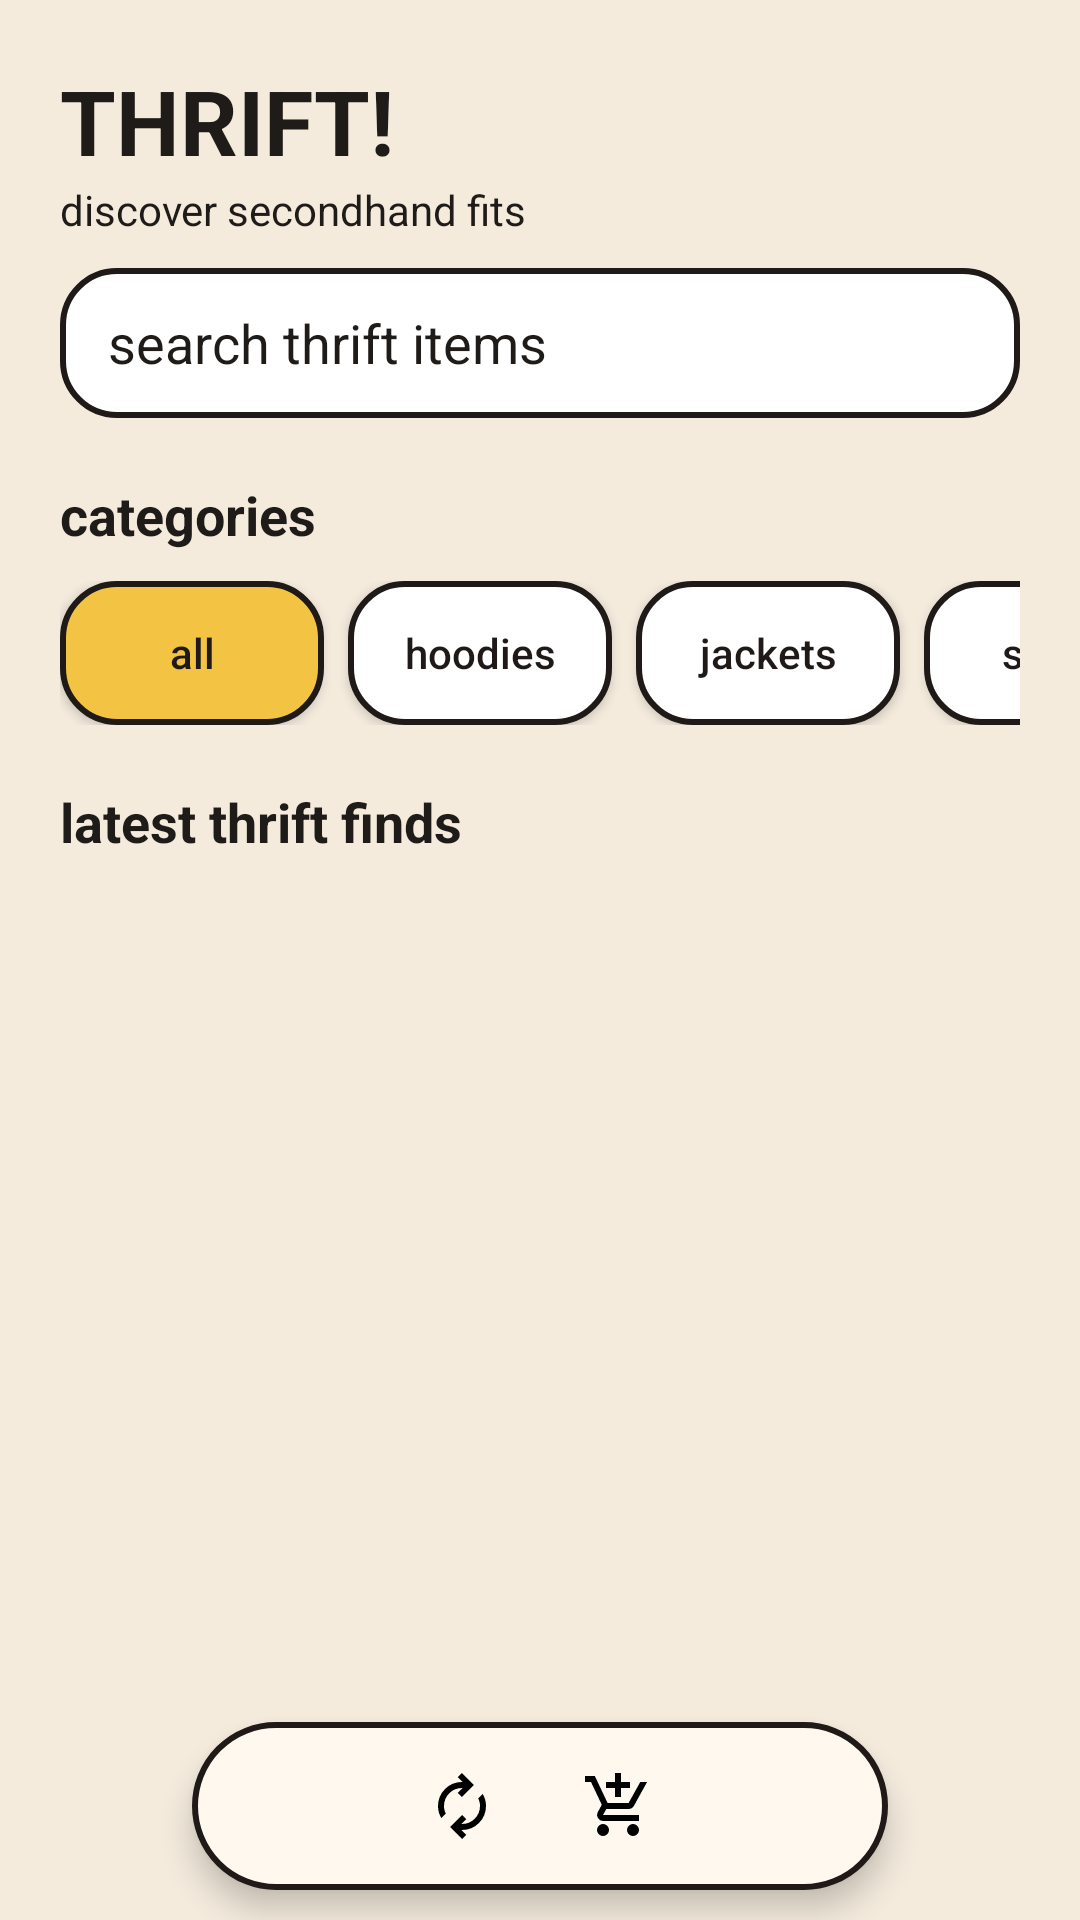

Icons on this 1080w x 1920h Android screen, each with the point to tap as point (x, y):
cart: point (616, 1804)
swap: point (462, 1806)
